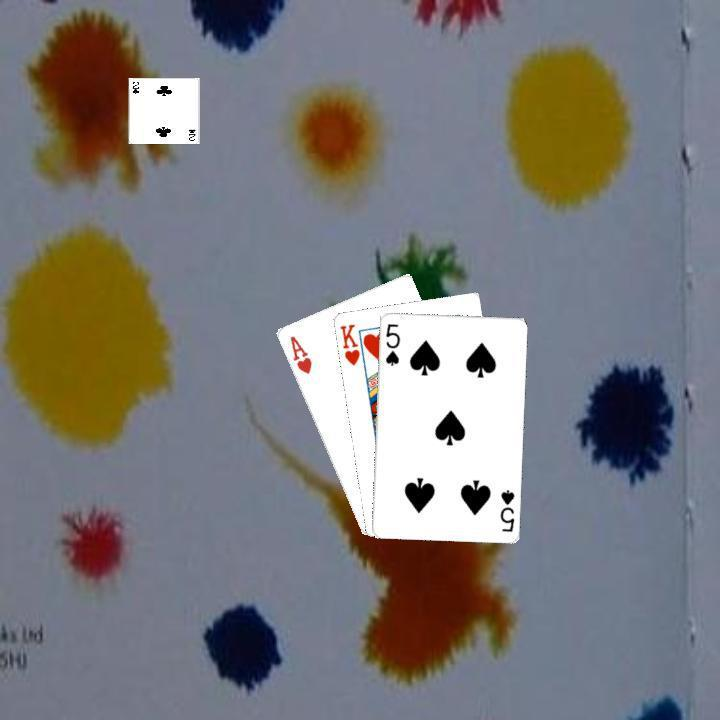5: (380, 319, 402, 367), (495, 485, 516, 533)
A: (285, 331, 313, 376)
K: (335, 319, 361, 367)
